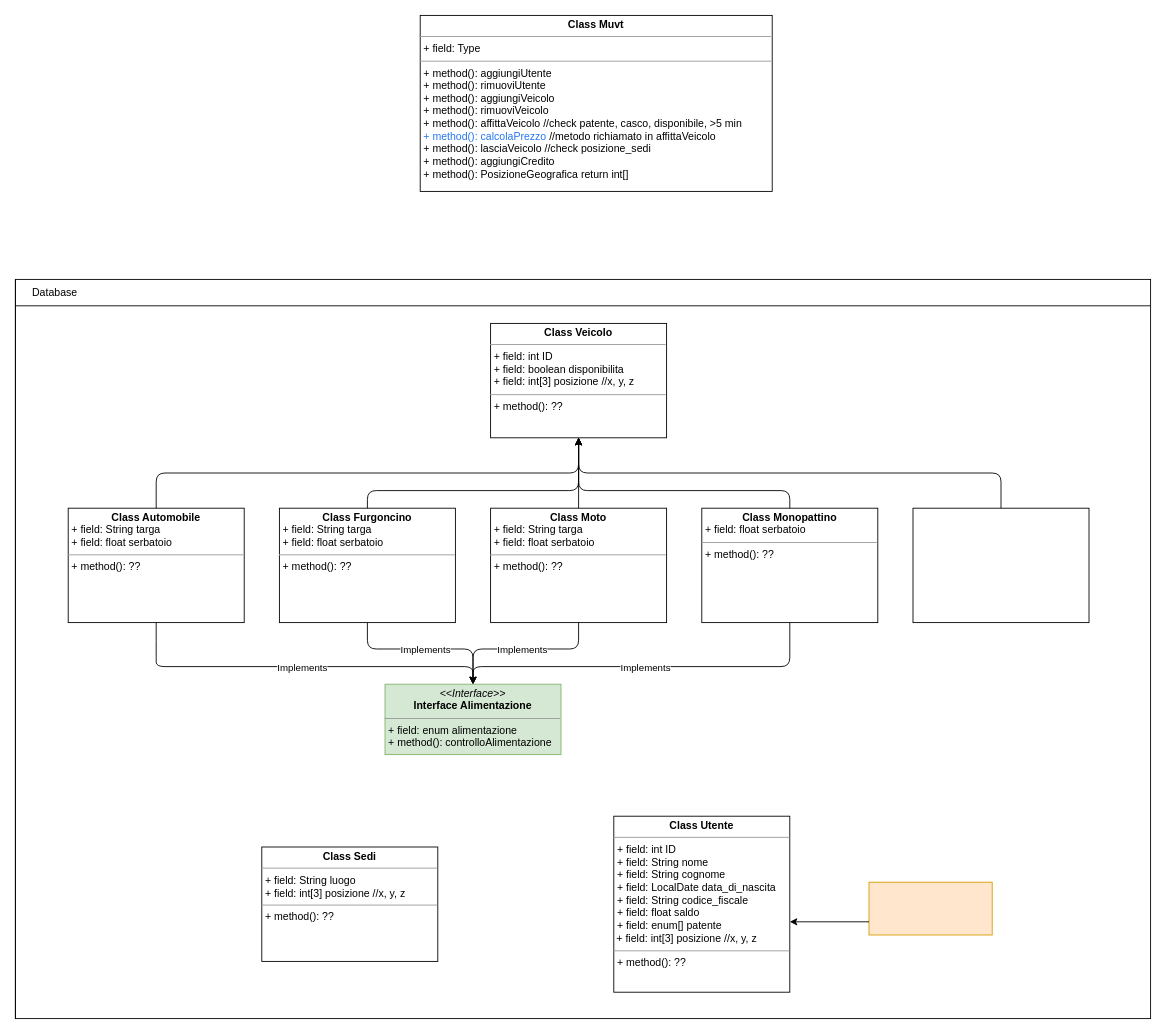
The diagram is 1166 pixels wide and 1034 high, and some of its shapes have lost their labels. The box of each missing label's shape, as (x1, y1, x2, y2) in pixels:
Class Bicicletta + field: ?? + method(): ??: (912, 507, 1089, 623)
Class Enum Patente A, B, B1: (868, 881, 992, 935)
